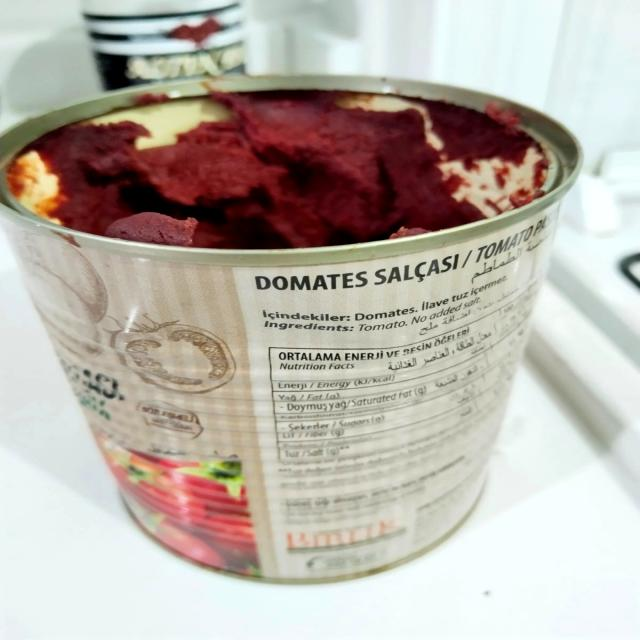tomato paste: (19, 52, 540, 569)
